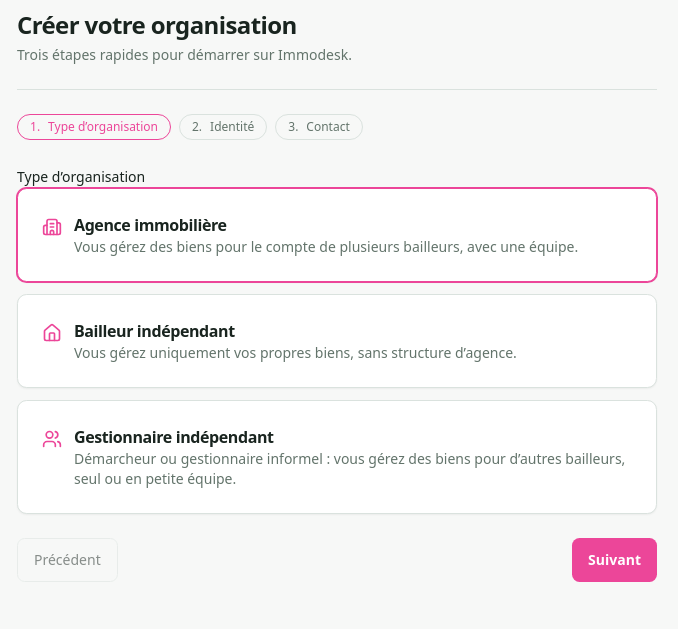
Test: OnboardingOrganisationPage — libellé du nom › affiche « Nom et prénom requis. » quand le champ est vide pour une agence
Click the button "Suivant" at (615, 560), box 572,538 -> 657,582
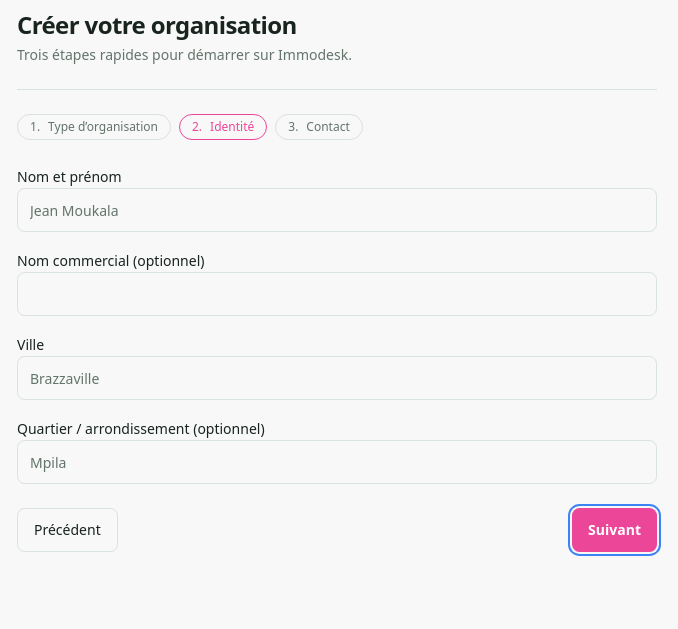
Click the button "Suivant" at (615, 530), box 572,508 -> 657,552
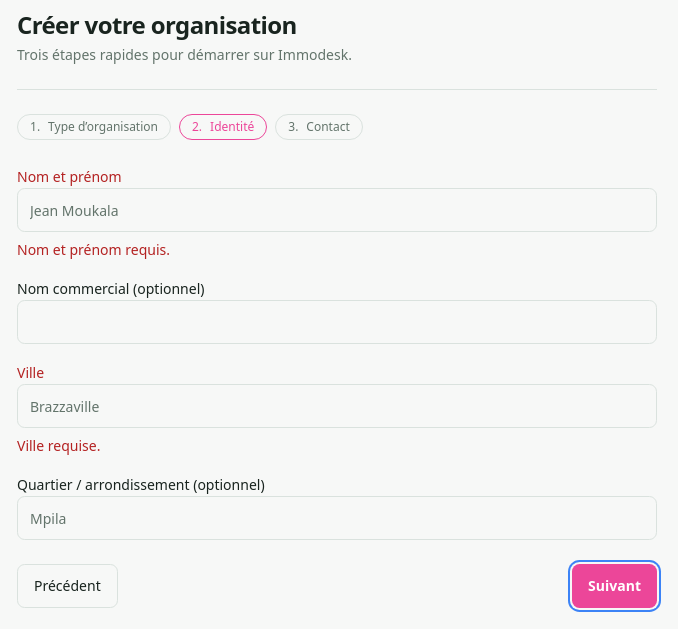
Check: the text "Nom et prénom requis." is shown, box 17,240 -> 170,259
